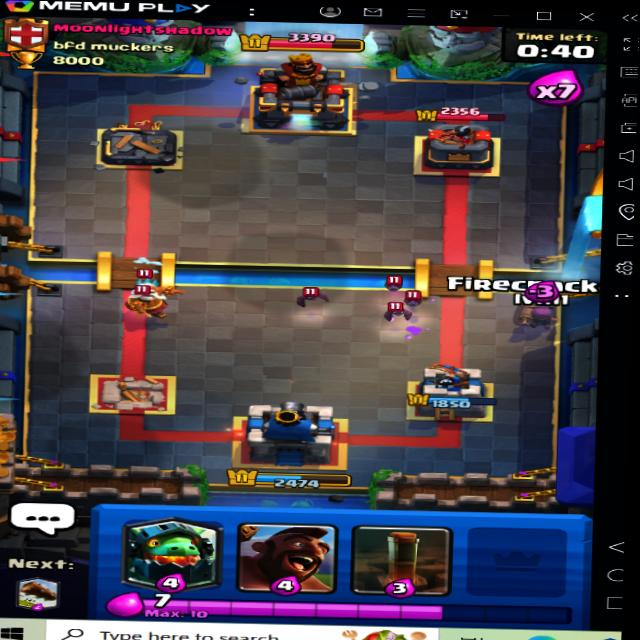bats: (376, 302, 421, 323), (374, 274, 416, 296), (294, 282, 330, 304), (397, 289, 429, 310)
ice-spirit: (126, 276, 173, 292)
monk: (116, 282, 192, 324)
